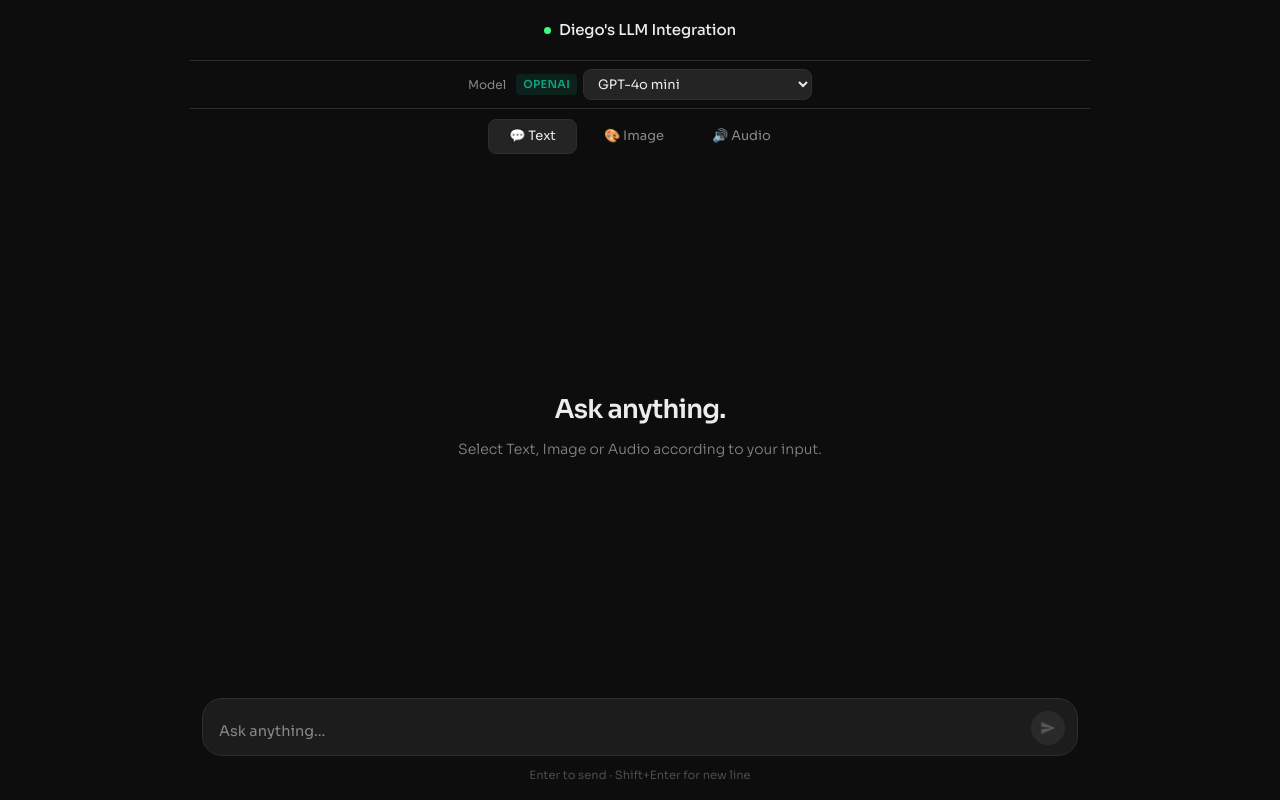
Test: Per-provider error boundary › dismisses the banner without changing the selected model
This screenshot has width=1280, height=800.
In the text box with placeholder "Ask anything...": point(621, 733) [219, 721, 1023, 745], type "Hello"
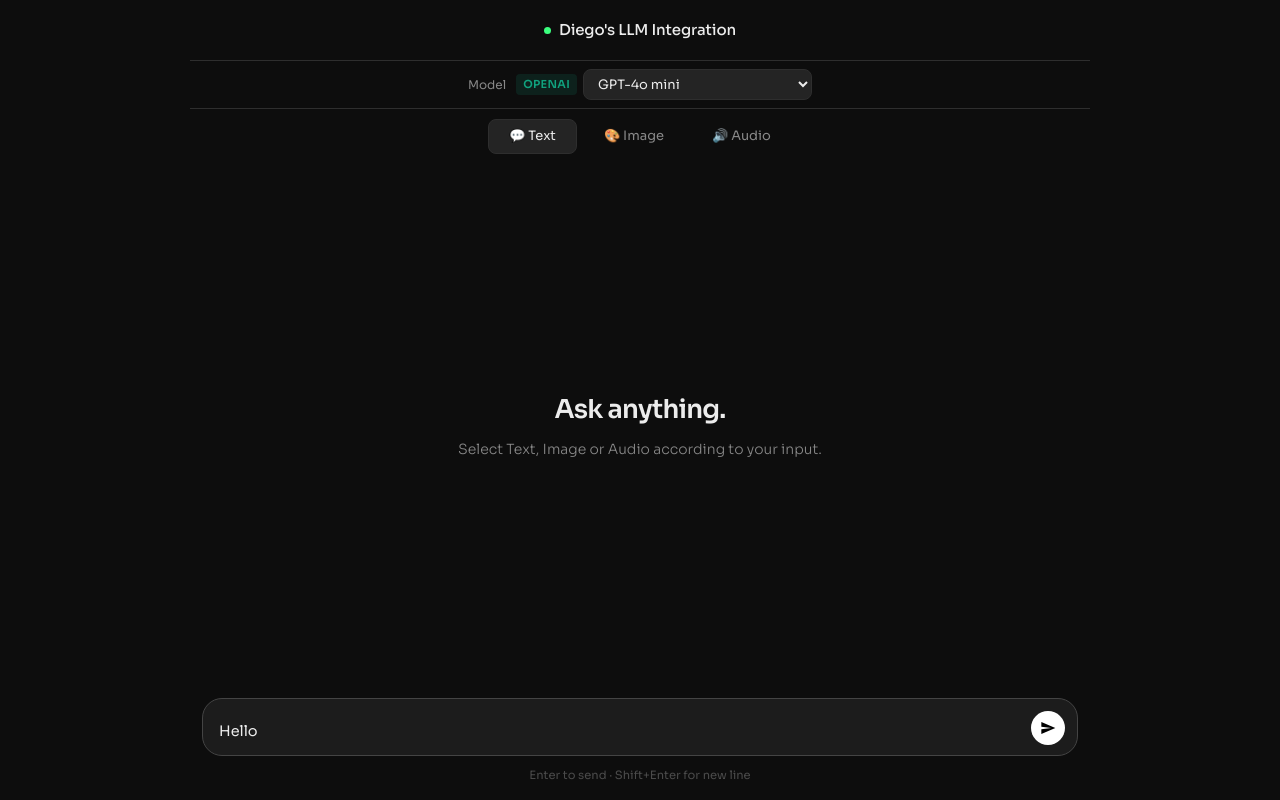
Click the button titled "Send": point(1048, 728) [1031, 711, 1065, 745]
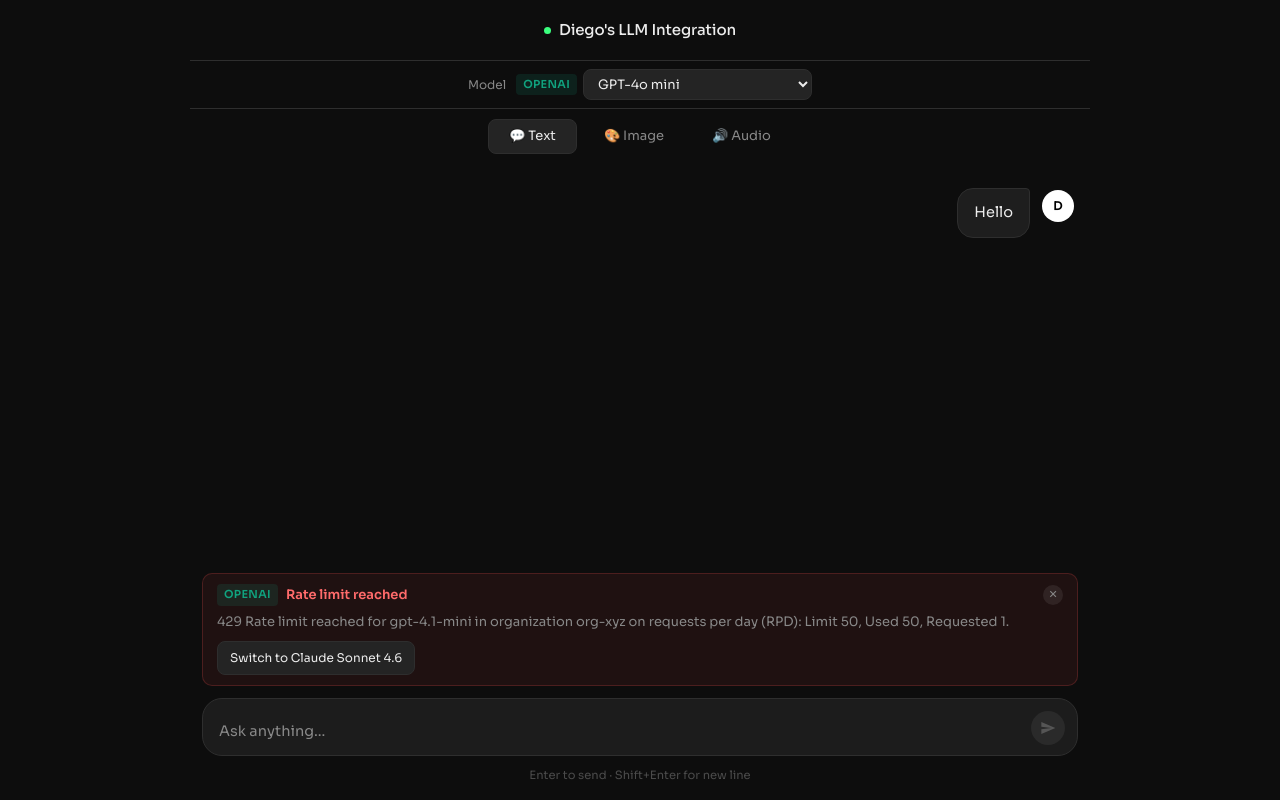
Now the text "Rate limit reached" is shown, box [286, 586, 408, 603]
Click the button titled "Dismiss": point(1053, 595) [1043, 585, 1063, 605]
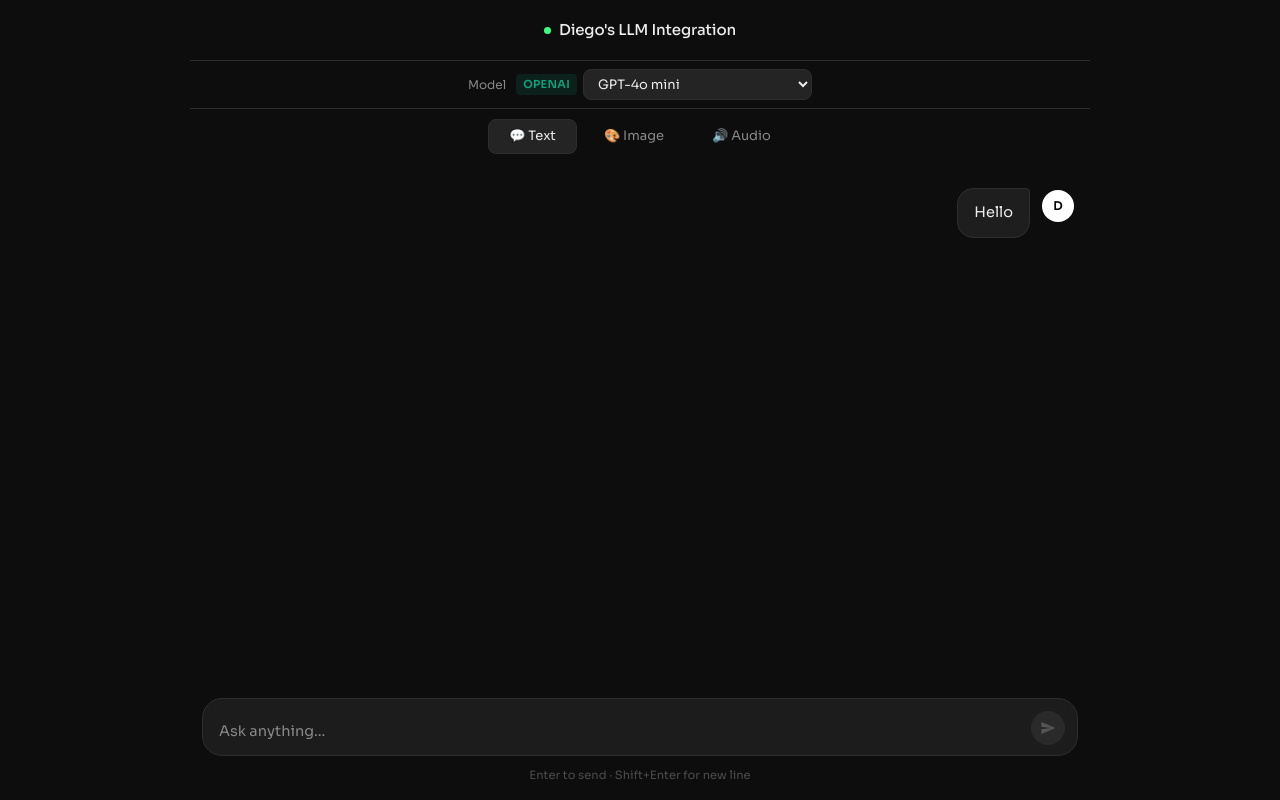
Expected: the text labelled "OpenAI" is shown, [516, 74, 577, 95]
Now the text "Rate limit reached" is gone
